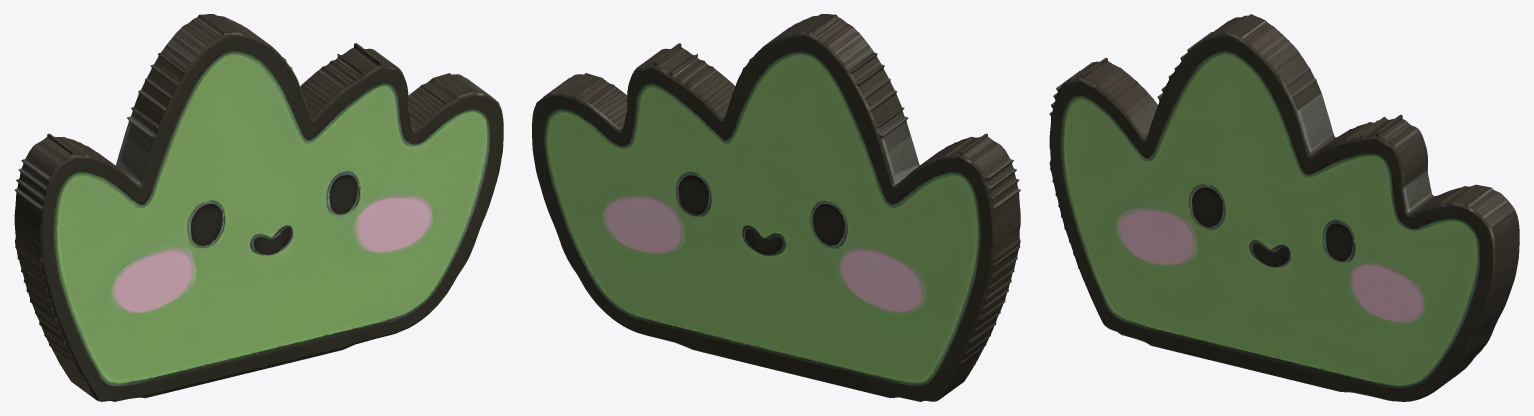
Rendered from grass.glb.
The picture shows the model from 3 angles, left to right: view 1: azimuth 30°, elevation 25°; view 2: azimuth 150°, elevation 25°; view 3: azimuth 330°, elevation 25°; orthographic projection. The views are drawn at different scales.
Parts seen in each view (by area): view 1: Mesh_0; view 2: Mesh_0; view 3: Mesh_0.
Boxes of the visible parts, left/top/right/bottom form: Mesh_0: left=14, top=14, right=503, bottom=401; Mesh_0: left=532, top=14, right=1020, bottom=401; Mesh_0: left=1049, top=14, right=1519, bottom=401.
Size of the model in its own units: 1.18 by 0.8385 by 0.1215.
Materials: 1 (1 with a texture image).
